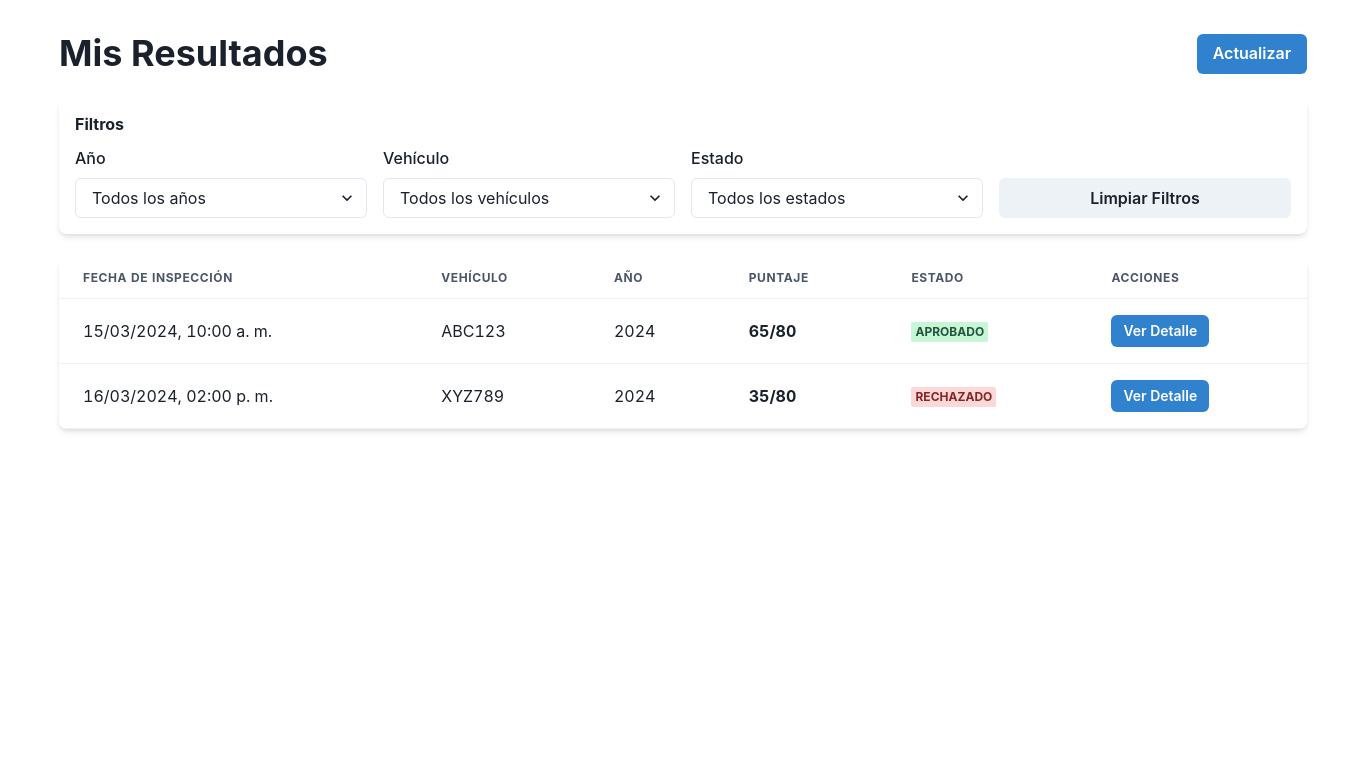
Test: InspectionResultsPage › detail modal › should display owner observation when present
Click the button "Ver Detalle" in the row of "15/03/2024, 10:00 a. m.". click: (1160, 331)
box: [1111,315,1209,347]
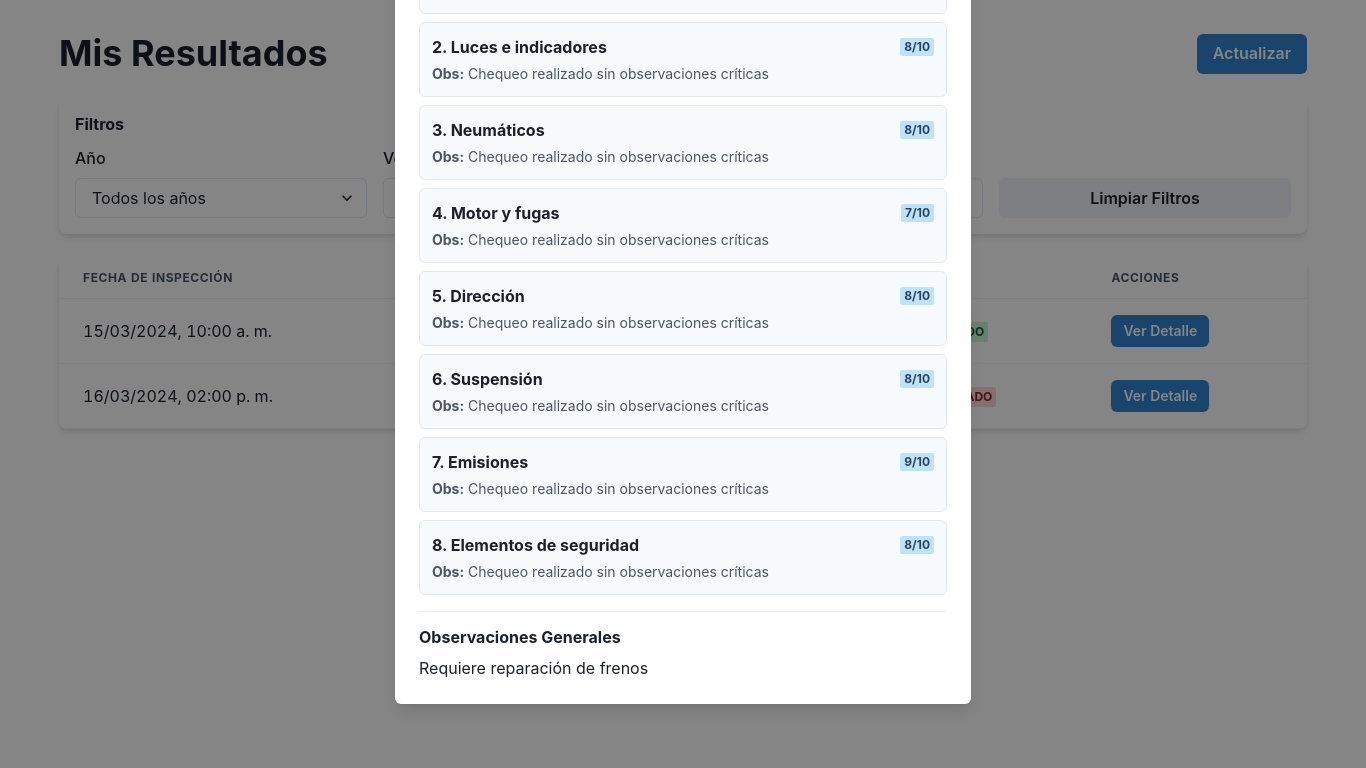
Expected: the heading "Observaciones Generales" is shown, [419,627,621,647]
Expected: the text "Requiere reparación de frenos" is shown, [419,658,648,678]
